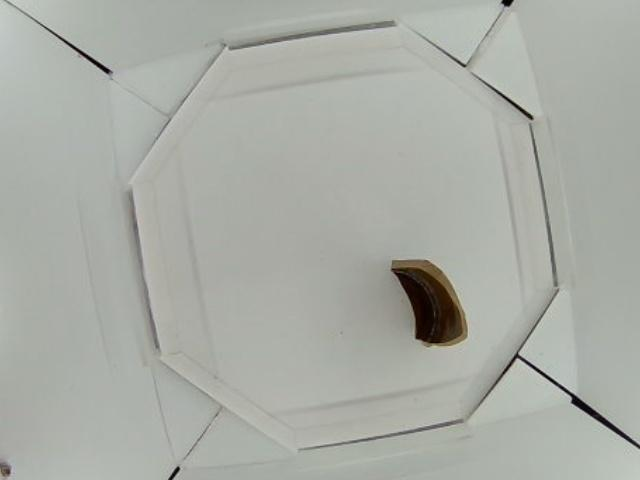China: (389, 253, 474, 347)
